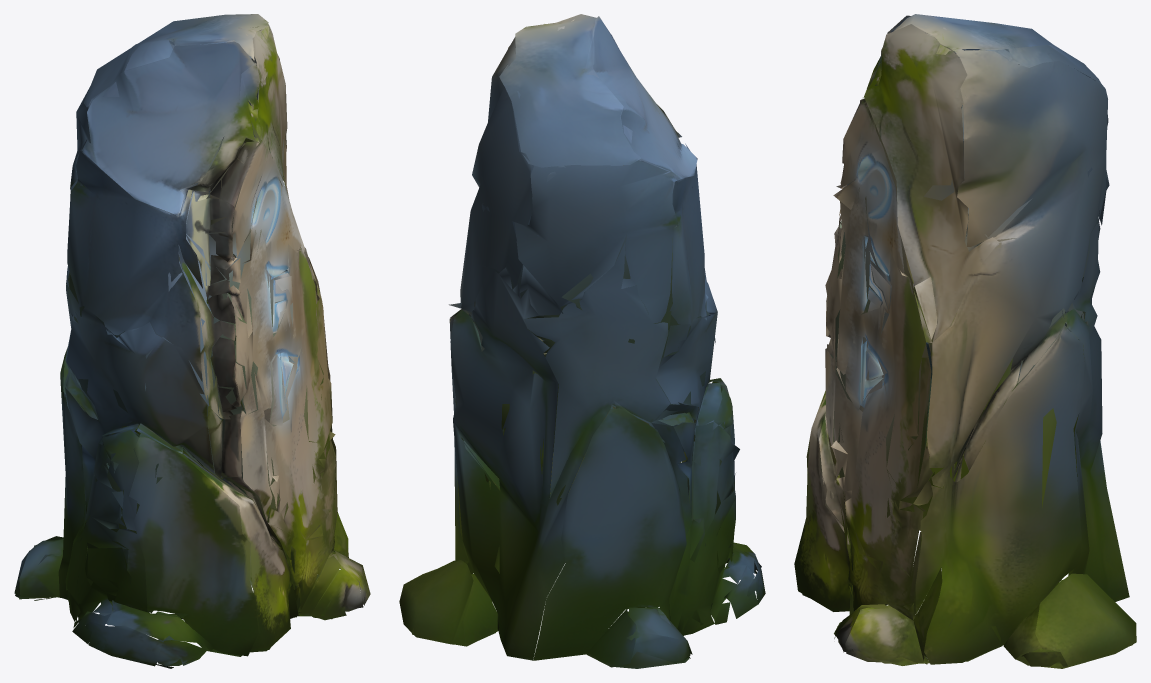
File: stone_hy_runes_bake.glb
The picture shows the model from 3 angles, left to right: view 1: azimuth 30°, elevation 25°; view 2: azimuth 150°, elevation 25°; view 3: azimuth 270°, elevation 25°; orthographic projection. The views are drawn at different scales.
Parts seen in each view (by area): view 1: stone_hy_runes_bake; view 2: stone_hy_runes_bake; view 3: stone_hy_runes_bake.
Part boxes in pixels (box(x1,y1,x2,y2)): stone_hy_runes_bake: box(14, 14, 370, 668); stone_hy_runes_bake: box(399, 14, 765, 668); stone_hy_runes_bake: box(794, 14, 1136, 668).
Bounding box in the file's own units: 2.15 × 4.15 × 2.17.
1 material, 1 textured.
